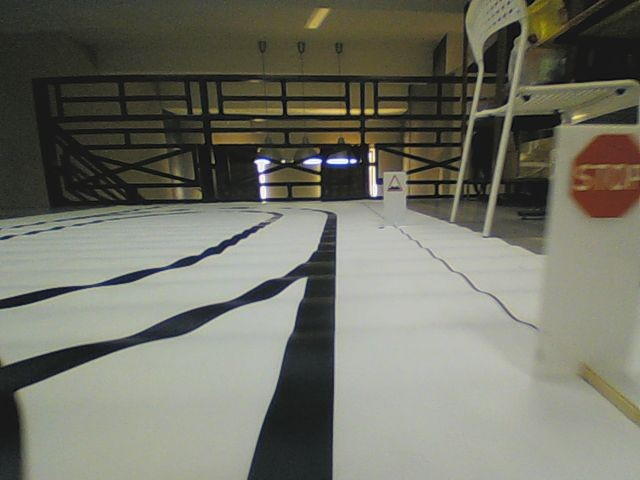Nerov: (386, 172, 402, 193)
Stop: (569, 131, 640, 220)
